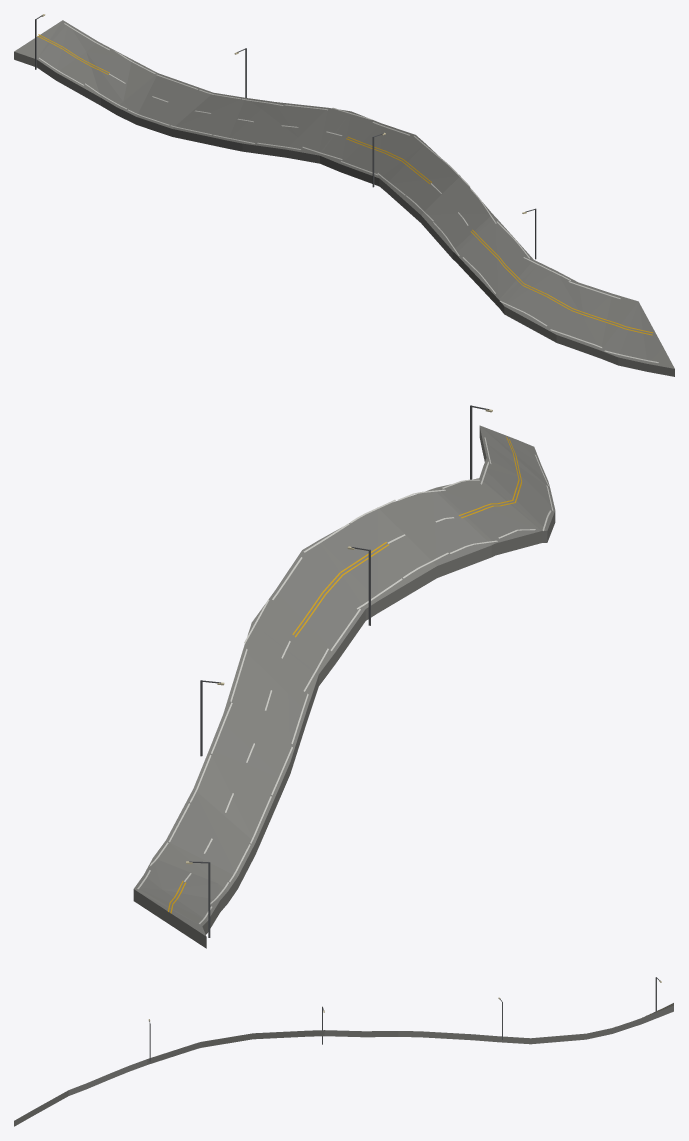
3 views of the same model, one above another, from view 1: azimuth 30°, elevation 25°; view 2: azimuth 150°, elevation 25°; view 3: azimuth 270°, elevation 25° (orthographic). The views are drawn at different scales.
Bounding box in the file's own units: 34.57 × 17.28 × 119.
